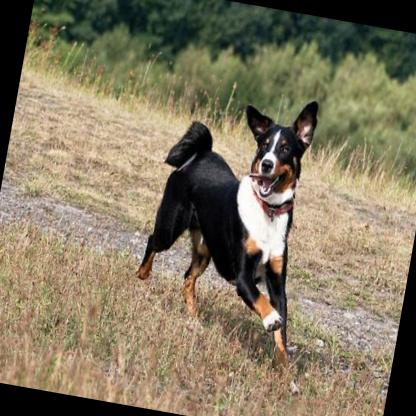Appenzeller: (120, 72, 350, 396)
